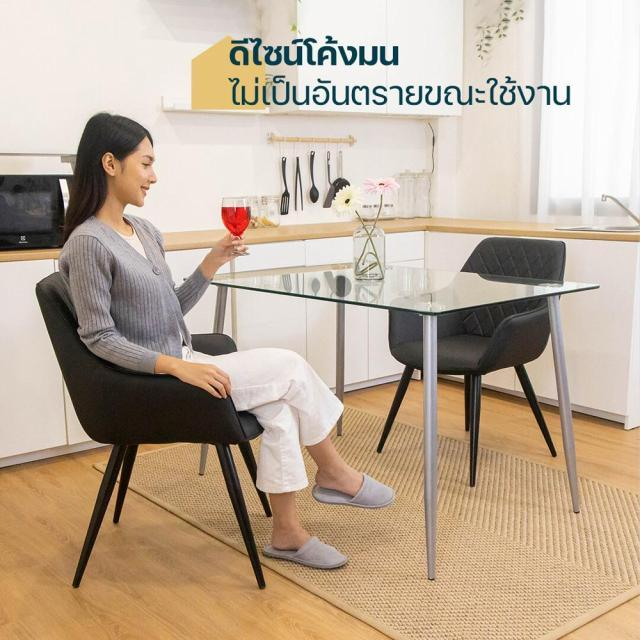table: (206, 235, 614, 364)
